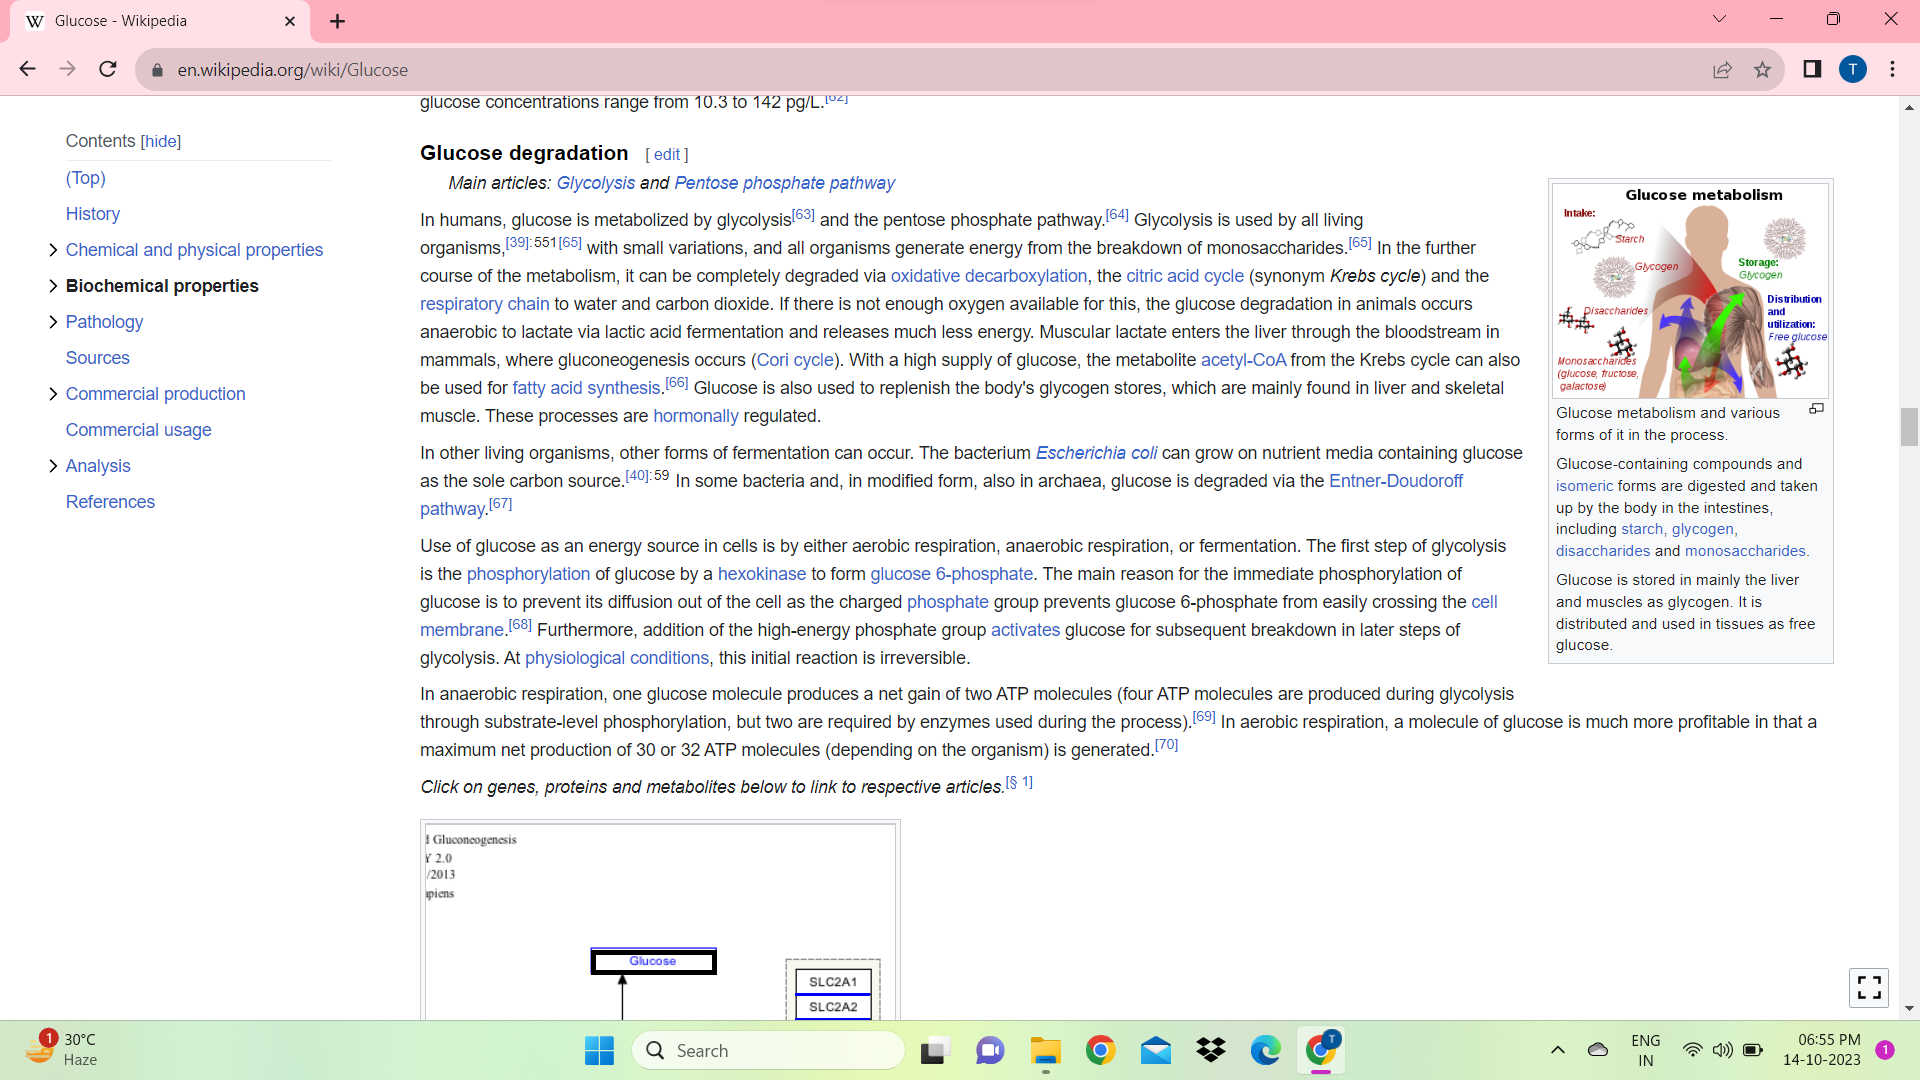Image: (1542, 173, 1873, 399)
Paragraph: (412, 201, 1534, 436), (401, 680, 1844, 803), (403, 529, 1517, 675), (410, 440, 1542, 524), (1551, 408, 1832, 660), (416, 129, 654, 170), (444, 177, 930, 196), (63, 268, 274, 306), (58, 414, 235, 451), (56, 488, 190, 524), (56, 125, 198, 151), (56, 194, 142, 229)
